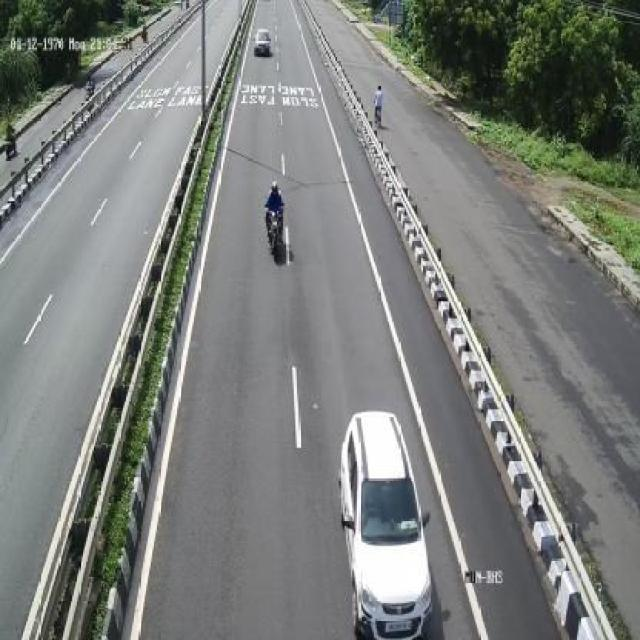car: (341, 403, 434, 640)
